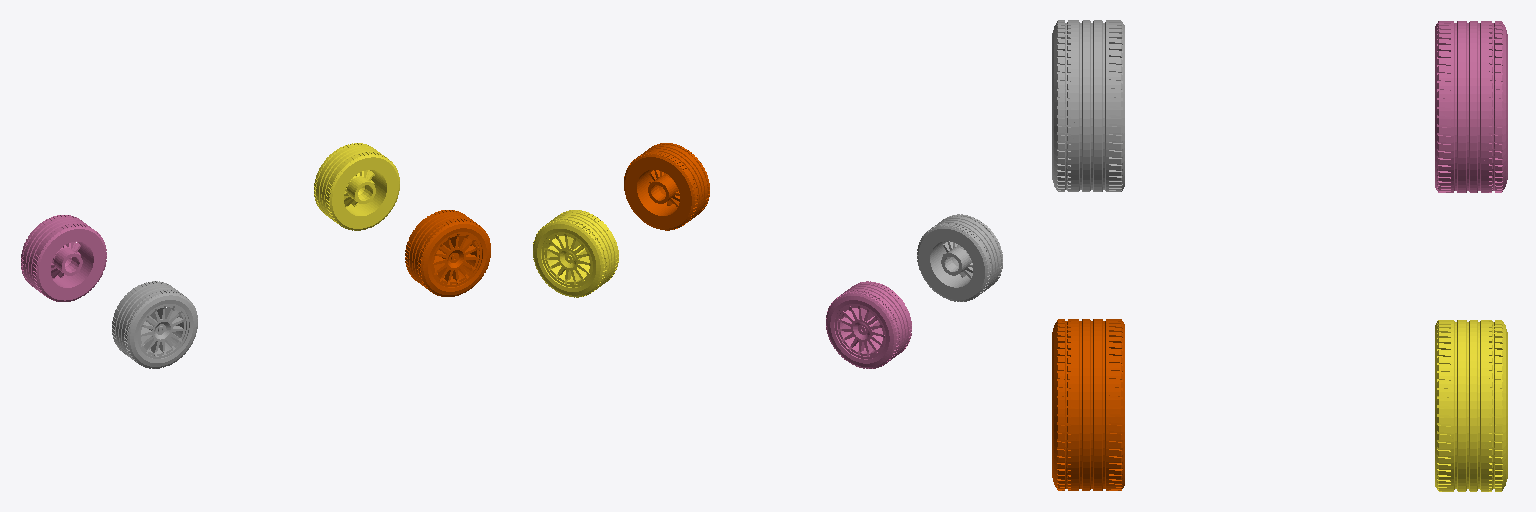
URDF robot description (ackermann_robot):
<?xml version="1.0" ?>
<!-- =================================================================================== -->
<!-- |    This document was autogenerated by xacro from [local-path]/foxy_ws/install/ackermann_simulation/share/ackermann_simulation/urdf/ackermann_model.urdf.xacro | -->
<!-- |    EDITING THIS FILE BY HAND IS NOT RECOMMENDED                                 | -->
<!-- =================================================================================== -->
<robot name="ackermann_robot">
  <!-- Steering -->
  <link name="base_footprint"/>
  <joint name="base_joint" type="fixed">
    <parent link="base_footprint"/>
    <child link="base_link"/>
    <origin rpy="0 0 0" xyz="0.0 0.0 0.075"/>
  </joint>
  <link name="base_link">
    <visual>
      <origin rpy="0 0 0" xyz="-0.785 -0.747 -0.15"/>
      <geometry>
        <mesh filename="model://ackermann_model/meshes/base_link.stl" scale="0.01 0.01 0.01"/>
      </geometry>
      <material name="red">
        <color rgba="0.8 0.0 0.0 1.0"/>
      </material>
    </visual>
    <collision>
      <origin rpy="0 0 0" xyz="-0.035 0 0.02"/>
      <geometry>
        <box size="1 0.38 0.24"/>
      </geometry>
    </collision>
    <inertial>
      <mass value="15.0"/>
      <origin xyz="0.0 0 0.0"/>
      <inertia ixx="2.3" ixy="0.0" ixz="0.0" iyy="1.0" iyz="0.0" izz="1.5"/>
    </inertial>
  </link>
  <gazebo reference="base_link">
    <selfCollide>false</selfCollide>
    <material value="Gazebo/Red"/>
    <turnGravityOff>false</turnGravityOff>
  </gazebo>
  <link name="steering_wheel_front_left">
    <inertial>
      <mass value="1.0"/>
      <origin xyz="0.0 0 0.0"/>
      <inertia ixx="0.001" ixy="0.0" ixz="0.0" iyy="0.001" iyz="0.0" izz="0.001"/>
    </inertial>
  </link>
  <gazebo reference="steering_wheel_front_left">
    <material>Gazebo/White</material>
    <turnGravityOff>false</turnGravityOff>
  </gazebo>
  <joint name="steering_wheel_front_left_joint" type="revolute">
    <parent link="base_link"/>
    <child link="steering_wheel_front_left"/>
    <origin rpy="0 0 0" xyz="0.308 0.175 -0.075"/>
    <axis xyz="0 0 1"/>
    <limit effort="20.0" lower="-0.7" upper="0.7" velocity="5.0"/>
    <dynamics damping="0.4" friction="0.5"/>
  </joint>
  <link name="wheel_front_left">
    <visual>
      <origin rpy="-1.570796327 0  0" xyz="0 -0.023 0"/>
      <geometry>
        <mesh filename="model://ackermann_model/meshes/wheel.stl" scale="0.0055 0.0055 0.0055"/>
      </geometry>
      <material name="black"/>
    </visual>
    <collision>
      <origin rpy="1.570796327 0 0" xyz="0 0 0"/>
      <geometry>
        <cylinder length="0.04" radius="0.075"/>
      </geometry>
    </collision>
    <inertial>
      <mass value="1.5"/>
      <origin xyz="0 0 0"/>
      <inertia ixx="0.002309375" ixy="0" ixz="0" iyy="0.002309375" iyz="0" izz="0.004218749999999999"/>
    </inertial>
  </link>
  <gazebo reference="wheel_front_left">
    <material>Gazebo/Black</material>
    <turnGravityOff>false</turnGravityOff>
    <collision name="wheel_front_left_collision">
      <surface>
        <friction>
          <ode>
            <mu>40.0</mu>
            <mu2>40.0</mu2>
            <fdir1>1 0 0</fdir1>
            <slip1>0.0</slip1>
            <slip2>0.0</slip2>
          </ode>
        </friction>
        <contact>
          <ode>
            <soft_cfm>0</soft_cfm>
            <soft_erp>0.2</soft_erp>
            <kp>100000</kp>
            <kd>0.1</kd>
            <max_vel>20</max_vel>
            <min_depth>0.001</min_depth>
          </ode>
        </contact>
      </surface>
    </collision>
  </gazebo>
  <joint name="wheel_front_left_joint" type="revolute">
    <parent link="steering_wheel_front_left"/>
    <child link="wheel_front_left"/>
    <origin rpy="0 0 0" xyz="0.0 0.0 0.0"/>
    <axis xyz="0 1 0"/>
    <limit effort="20.0" lower="-1e+16" upper="1e+16" velocity="5.0"/>
    <dynamics damping="0.4" friction="0.2"/>
  </joint>
  <link name="steering_wheel_front_right">
    <inertial>
      <mass value="1.0"/>
      <origin xyz="0.0 0 0.0"/>
      <inertia ixx="0.001" ixy="0.0" ixz="0.0" iyy="0.001" iyz="0.0" izz="0.001"/>
    </inertial>
  </link>
  <gazebo reference="steering_wheel_front_right">
    <material>Gazebo/White</material>
    <turnGravityOff>false</turnGravityOff>
  </gazebo>
  <joint name="steering_wheel_front_right_joint" type="revolute">
    <parent link="base_link"/>
    <child link="steering_wheel_front_right"/>
    <origin rpy="0 0 0" xyz="0.308 -0.175 -0.075"/>
    <axis xyz="0 0 1"/>
    <limit effort="20.0" lower="-0.7" upper="0.7" velocity="5.0"/>
    <dynamics damping="0.4" friction="0.5"/>
  </joint>
  <link name="wheel_front_right">
    <visual>
      <origin rpy="1.570796327 0  0" xyz="0 0.025 0"/>
      <geometry>
        <mesh filename="model://ackermann_model/meshes/wheel.stl" scale="0.0055 0.0055 0.0055"/>
      </geometry>
      <material name="black"/>
    </visual>
    <collision>
      <origin rpy="1.570796327 0 0" xyz="0 0 0"/>
      <geometry>
        <cylinder length="0.04" radius="0.075"/>
      </geometry>
    </collision>
    <inertial>
      <mass value="1.5"/>
      <origin xyz="0 0 0"/>
      <inertia ixx="0.002309375" ixy="0" ixz="0" iyy="0.002309375" iyz="0" izz="0.004218749999999999"/>
    </inertial>
  </link>
  <gazebo reference="wheel_front_right">
    <material>Gazebo/Black</material>
    <turnGravityOff>false</turnGravityOff>
    <collision name="wheel_front_right_collision">
      <surface>
        <friction>
          <ode>
            <mu>40.0</mu>
            <mu2>40.0</mu2>
            <fdir1>1 0 0</fdir1>
            <slip1>0.0</slip1>
            <slip2>0.0</slip2>
          </ode>
        </friction>
        <contact>
          <ode>
            <soft_cfm>0</soft_cfm>
            <soft_erp>0.2</soft_erp>
            <kp>100000</kp>
            <kd>0.1</kd>
            <max_vel>20</max_vel>
            <min_depth>0.001</min_depth>
          </ode>
        </contact>
      </surface>
    </collision>
  </gazebo>
  <joint name="wheel_front_right_joint" type="revolute">
    <parent link="steering_wheel_front_right"/>
    <child link="wheel_front_right"/>
    <origin rpy="0 0 0" xyz="0.0 0.0 0.0"/>
    <axis xyz="0 1 0"/>
    <limit effort="20.0" lower="-1e+16" upper="1e+16" velocity="5.0"/>
    <dynamics damping="0.4" friction="0.2"/>
  </joint>
  <link name="wheel_back_left">
    <visual>
      <origin rpy="-1.570796327 0  0" xyz="0 -0.023 0"/>
      <geometry>
        <mesh filename="model://ackermann_model/meshes/wheel.stl" scale="0.0055 0.0055 0.0055"/>
      </geometry>
      <material name="black"/>
    </visual>
    <collision>
      <origin rpy="1.570796327 0 0" xyz="0 0 0"/>
      <geometry>
        <cylinder length="0.04" radius="0.075"/>
      </geometry>
    </collision>
    <inertial>
      <mass value="1.5"/>
      <origin xyz="0 0 0"/>
      <inertia ixx="0.002309375" ixy="0" ixz="0" iyy="0.002309375" iyz="0" izz="0.004218749999999999"/>
    </inertial>
  </link>
  <gazebo reference="wheel_back_left">
    <material>Gazebo/Black</material>
    <turnGravityOff>false</turnGravityOff>
    <collision name="wheel_back_left_collision">
      <surface>
        <friction>
          <ode>
            <mu>40.0</mu>
            <mu2>40.0</mu2>
            <fdir1>1 0 0</fdir1>
            <slip1>0.0</slip1>
            <slip2>0.0</slip2>
          </ode>
        </friction>
        <contact>
          <ode>
            <soft_cfm>0</soft_cfm>
            <soft_erp>0.2</soft_erp>
            <kp>100000</kp>
            <kd>0.1</kd>
            <max_vel>20</max_vel>
            <min_depth>0.001</min_depth>
          </ode>
        </contact>
      </surface>
    </collision>
  </gazebo>
  <joint name="wheel_back_left_joint" type="revolute">
    <parent link="base_link"/>
    <child link="wheel_back_left"/>
    <origin rpy="0 0 0" xyz="-0.308 0.175 -0.075"/>
    <axis xyz="0 1 0"/>
    <limit effort="20.0" lower="-1e+16" upper="1e+16" velocity="5.0"/>
    <dynamics damping="0.4" friction="0.2"/>
  </joint>
  <link name="wheel_back_right">
    <visual>
      <origin rpy="1.570796327 0  0" xyz="0 0.025 0"/>
      <geometry>
        <mesh filename="model://ackermann_model/meshes/wheel.stl" scale="0.0055 0.0055 0.0055"/>
      </geometry>
      <material name="black"/>
    </visual>
    <collision>
      <origin rpy="1.570796327 0 0" xyz="0 0 0"/>
      <geometry>
        <cylinder length="0.04" radius="0.075"/>
      </geometry>
    </collision>
    <inertial>
      <mass value="1.5"/>
      <origin xyz="0 0 0"/>
      <inertia ixx="0.002309375" ixy="0" ixz="0" iyy="0.002309375" iyz="0" izz="0.004218749999999999"/>
    </inertial>
  </link>
  <gazebo reference="wheel_back_right">
    <material>Gazebo/Black</material>
    <turnGravityOff>false</turnGravityOff>
    <collision name="wheel_back_right_collision">
      <surface>
        <friction>
          <ode>
            <mu>40.0</mu>
            <mu2>40.0</mu2>
            <fdir1>1 0 0</fdir1>
            <slip1>0.0</slip1>
            <slip2>0.0</slip2>
          </ode>
        </friction>
        <contact>
          <ode>
            <soft_cfm>0</soft_cfm>
            <soft_erp>0.2</soft_erp>
            <kp>100000</kp>
            <kd>0.1</kd>
            <max_vel>20</max_vel>
            <min_depth>0.001</min_depth>
          </ode>
        </contact>
      </surface>
    </collision>
  </gazebo>
  <joint name="wheel_back_right_joint" type="revolute">
    <parent link="base_link"/>
    <child link="wheel_back_right"/>
    <origin rpy="0 0 0" xyz="-0.308 -0.175 -0.075"/>
    <axis xyz="0 1 0"/>
    <limit effort="20.0" lower="-1e+16" upper="1e+16" velocity="5.0"/>
    <dynamics damping="0.4" friction="0.2"/>
  </joint>
  <gazebo>
    <plugin filename="libgazebo_ros_joint_state_publisher.so" name="joint_state_publisher">
      <ros>
        <remapping>~/out:=joint_states</remapping>
      </ros>
      <update_rate>30</update_rate>
      <joint_name>wheel_front_left_joint</joint_name>
      <joint_name>wheel_front_right_joint</joint_name>
      <joint_name>wheel_back_left_joint</joint_name>
      <joint_name>wheel_back_right_joint</joint_name>
      <joint_name>steering_wheel_front_left_joint</joint_name>
      <joint_name>steering_wheel_front_right_joint</joint_name>
    </plugin>
    <plugin filename="libgazebo_ros_ackermann_drive.so" name="gazebo_ros_ackermann_drive">
      <update_rate>100.0</update_rate>
      <!-- wheels -->
      <front_left_joint>wheel_front_left_joint</front_left_joint>
      <front_right_joint>wheel_front_right_joint</front_right_joint>
      <rear_left_joint>wheel_back_left_joint</rear_left_joint>
      <rear_right_joint>wheel_back_right_joint</rear_right_joint>
      <left_steering_joint>steering_wheel_front_left_joint</left_steering_joint>
      <right_steering_joint>steering_wheel_front_right_joint</right_steering_joint>
      <!-- Max absolute steer angle for tyre in radians-->
      <!-- Any cmd_vel angular z greater than this would be capped -->
      <max_steer>0.7</max_steer>
      <max_speed>40</max_speed>
      <!-- PID tuning -->
      <left_steering_pid_gain>75 0 1</left_steering_pid_gain>
      <left_steering_i_range>0 0</left_steering_i_range>
      <right_steering_pid_gain>75 0 1</right_steering_pid_gain>
      <right_steering_i_range>0 0</right_steering_i_range>
      <linear_velocity_pid_gain>50 0 1</linear_velocity_pid_gain>
      <linear_velocity_i_range>0 0</linear_velocity_i_range>
      <!-- output -->
      <publish_odom>true</publish_odom>
      <publish_odom_tf>true</publish_odom_tf>
      <publish_wheel_tf>true</publish_wheel_tf>
      <publish_distance>true</publish_distance>
      <odometry_frame>odom</odometry_frame>
      <robot_base_frame>base_footprint</robot_base_frame>
    </plugin>
  </gazebo>
  <joint name="lidar_scan_joint" type="fixed">
    <parent link="base_link"/>
    <child link="lidar_scan"/>
    <origin rpy="0 0 0" xyz="-0.06 0.0 0.165"/>
  </joint>
  <link name="lidar_scan">
    <visual>
      <origin rpy="0 0 0" xyz="0 0 0.0"/>
      <geometry>
        <mesh filename="model://ackermann_model/meshes/lds.stl" scale="0.001 0.001 0.001"/>
      </geometry>
      <material name="grey">
        <color rgba="0.3 0.3 0.3 1.0"/>
      </material>
    </visual>
    <collision>
      <origin rpy="0 0 0" xyz="0.015 0 -0.0065"/>
      <geometry>
        <cylinder length="0.0315" radius="0.055"/>
      </geometry>
    </collision>
    <inertial>
      <mass value="0.114"/>
      <origin xyz="0 0 0"/>
      <inertia ixx="0.001" ixy="0.0" ixz="0.0" iyy="0.001" iyz="0.0" izz="0.001"/>
    </inertial>
  </link>
  <gazebo reference="lidar_scan">
    <material value="Gazebo/Grey"/>
    <sensor name="hls_lfcd_lds" type="ray">
      <always_on>true</always_on>
      <visualize>false</visualize>
      <pose>-0.032 0 0.171 0 0 0</pose>
      <update_rate>5</update_rate>
      <ray>
        <scan>
          <horizontal>
            <samples>360</samples>
            <resolution>1.000000</resolution>
            <min_angle>0.000000</min_angle>
            <max_angle>6.280000</max_angle>
          </horizontal>
        </scan>
        <range>
          <min>0.50000</min>
          <max>5.0</max>
          <resolution>0.015000</resolution>
        </range>
        <noise>
          <type>gaussian</type>
          <mean>0.0</mean>
          <stddev>0.01</stddev>
        </noise>
      </ray>
      <plugin filename="libgazebo_ros_ray_sensor.so" name="ackermann_scan">
        <ros>
          <remapping>~/out:=scan</remapping>
        </ros>
        <output_type>sensor_msgs/LaserScan</output_type>
        <frame_name>lidar_scan</frame_name>
      </plugin>
    </sensor>
  </gazebo>
</robot>

--- Render facts (derived) ---
Views: 3 orthographic renders of the robot side by side, from view 1: azimuth 30°, elevation 25°; view 2: azimuth 150°, elevation 25°; view 3: azimuth 270°, elevation 25°.
Robot: ackermann_robot — 9 links, 8 joints (6 revolute, 2 fixed); root link base_footprint; default pose: every joint at zero.
Visible links, largest first — view 1: wheel_front_left, wheel_back_right, wheel_back_left, wheel_front_right; view 2: wheel_front_right, wheel_front_left, wheel_back_left, wheel_back_right; view 3: wheel_front_right, wheel_back_left, wheel_front_left, wheel_back_right.
Link boxes in pixels (x1=…): wheel_front_left: x1=314, y1=143, x2=399, y2=230; wheel_back_right: x1=112, y1=281, x2=197, y2=368; wheel_back_left: x1=21, y1=215, x2=106, y2=301; wheel_front_right: x1=405, y1=210, x2=490, y2=296; wheel_front_right: x1=624, y1=143, x2=709, y2=230; wheel_front_left: x1=533, y1=210, x2=618, y2=297; wheel_back_left: x1=826, y1=281, x2=911, y2=368; wheel_back_right: x1=917, y1=214, x2=1002, y2=301; wheel_front_right: x1=1052, y1=319, x2=1124, y2=490; wheel_back_left: x1=1435, y1=21, x2=1507, y2=192; wheel_front_left: x1=1435, y1=320, x2=1507, y2=491; wheel_back_right: x1=1052, y1=20, x2=1124, y2=191.
Bounding box of the posed robot: 0.766 × 0.3976 × 0.1505 m (x, y, z).
4 mesh visuals loaded from 3 distinct referenced files (1 binary STL); not drawn: 2 (reference not matched to a file when rendering).
